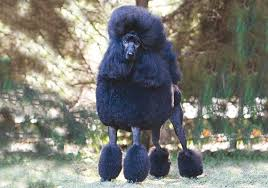Poodle: (72, 1, 221, 187)
